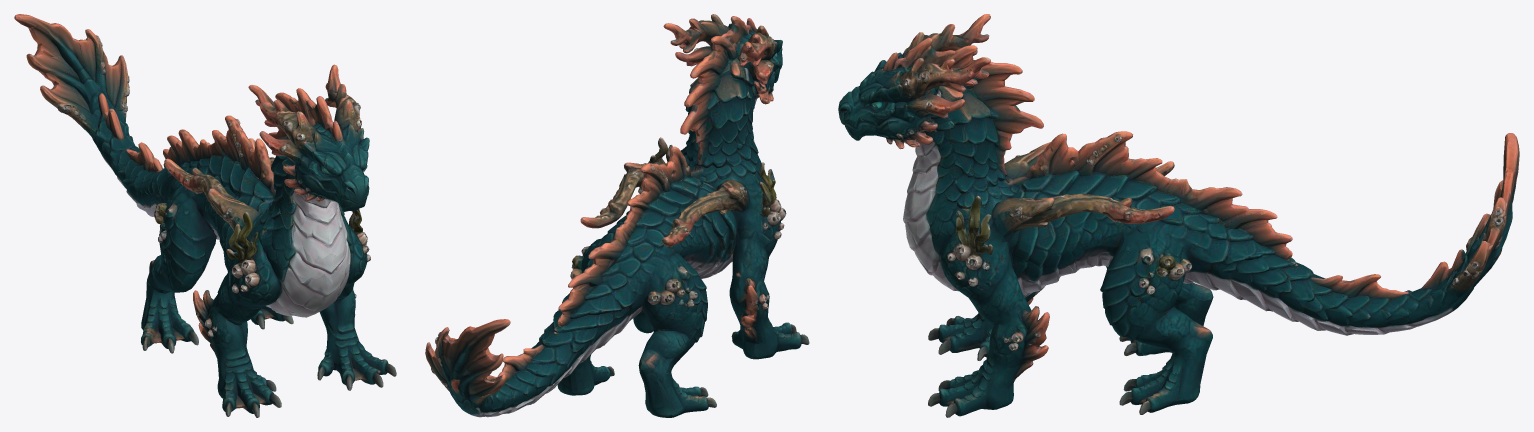
File: brine_drake.glb
3 renders of one model, left to right at view 1: azimuth 30°, elevation 25°; view 2: azimuth 150°, elevation 25°; view 3: azimuth 270°, elevation 25°, orthographic. The views are drawn at different scales.
Parts seen in each view (by area): view 1: Mesh_0; view 2: Mesh_0; view 3: Mesh_0.
Boxes of the visible parts, x1,y1,x2,y2 form: Mesh_0: (14,14,396,417); Mesh_0: (425,14,809,417); Mesh_0: (838,14,1519,417).
Bounding box in the file's own units: 0.599 × 1.04 × 1.9.
Materials: 1 (1 with a texture image).
